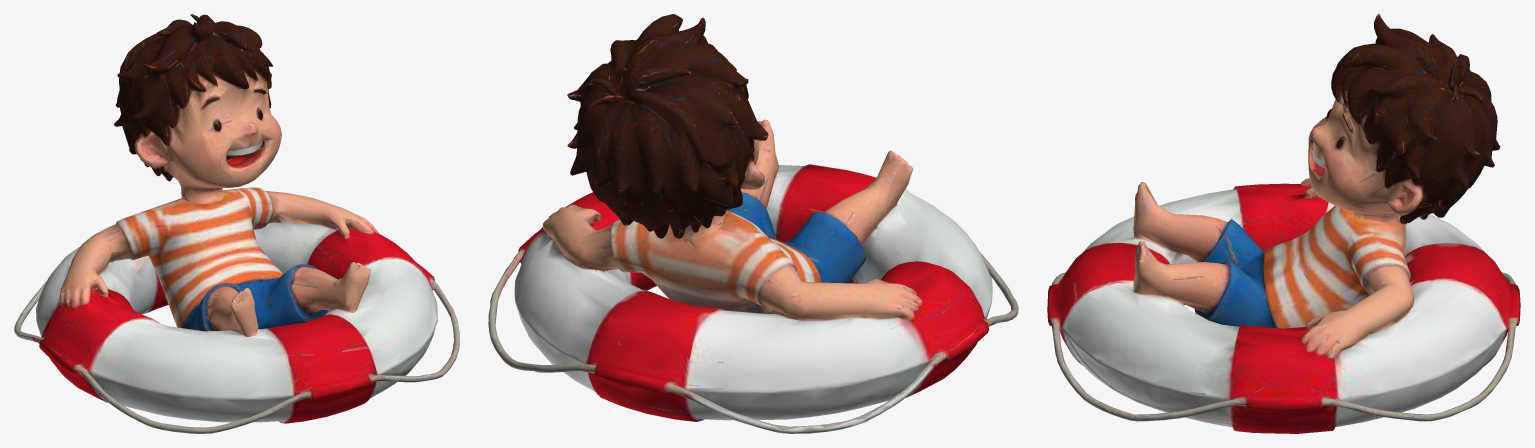
Rendered from rescue-friend.glb.
3 renders of one model, left to right at view 1: azimuth 30°, elevation 25°; view 2: azimuth 150°, elevation 25°; view 3: azimuth 270°, elevation 25°, orthographic. The views are drawn at different scales.
Visible parts, largest first — view 1: Mesh_0; view 2: Mesh_0; view 3: Mesh_0.
Part boxes in pixels (left/top/right/bottom): Mesh_0: left=14, top=14, right=459, bottom=433; Mesh_0: left=488, top=14, right=1018, bottom=433; Mesh_0: left=1047, top=14, right=1520, bottom=433.
Bounding box in the file's own units: 1.9 × 1.51 × 1.9.
1 material, 1 textured.
